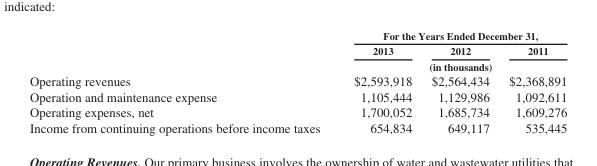table: (28, 29, 566, 134)
table column: (28, 29, 336, 134), (336, 29, 421, 134), (421, 29, 498, 134), (498, 29, 566, 134)
table column header: (28, 29, 566, 72)
table row: (28, 42, 566, 58), (28, 72, 566, 88), (28, 88, 566, 104), (28, 104, 566, 119), (28, 119, 566, 134), (28, 58, 566, 72), (28, 29, 566, 42)
table spanning cell: (336, 58, 566, 72), (336, 29, 566, 42)
